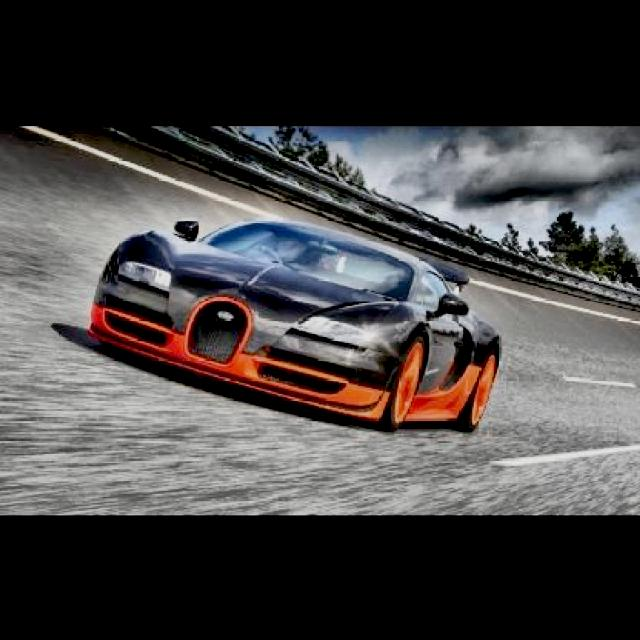black: (88, 219, 505, 430)
